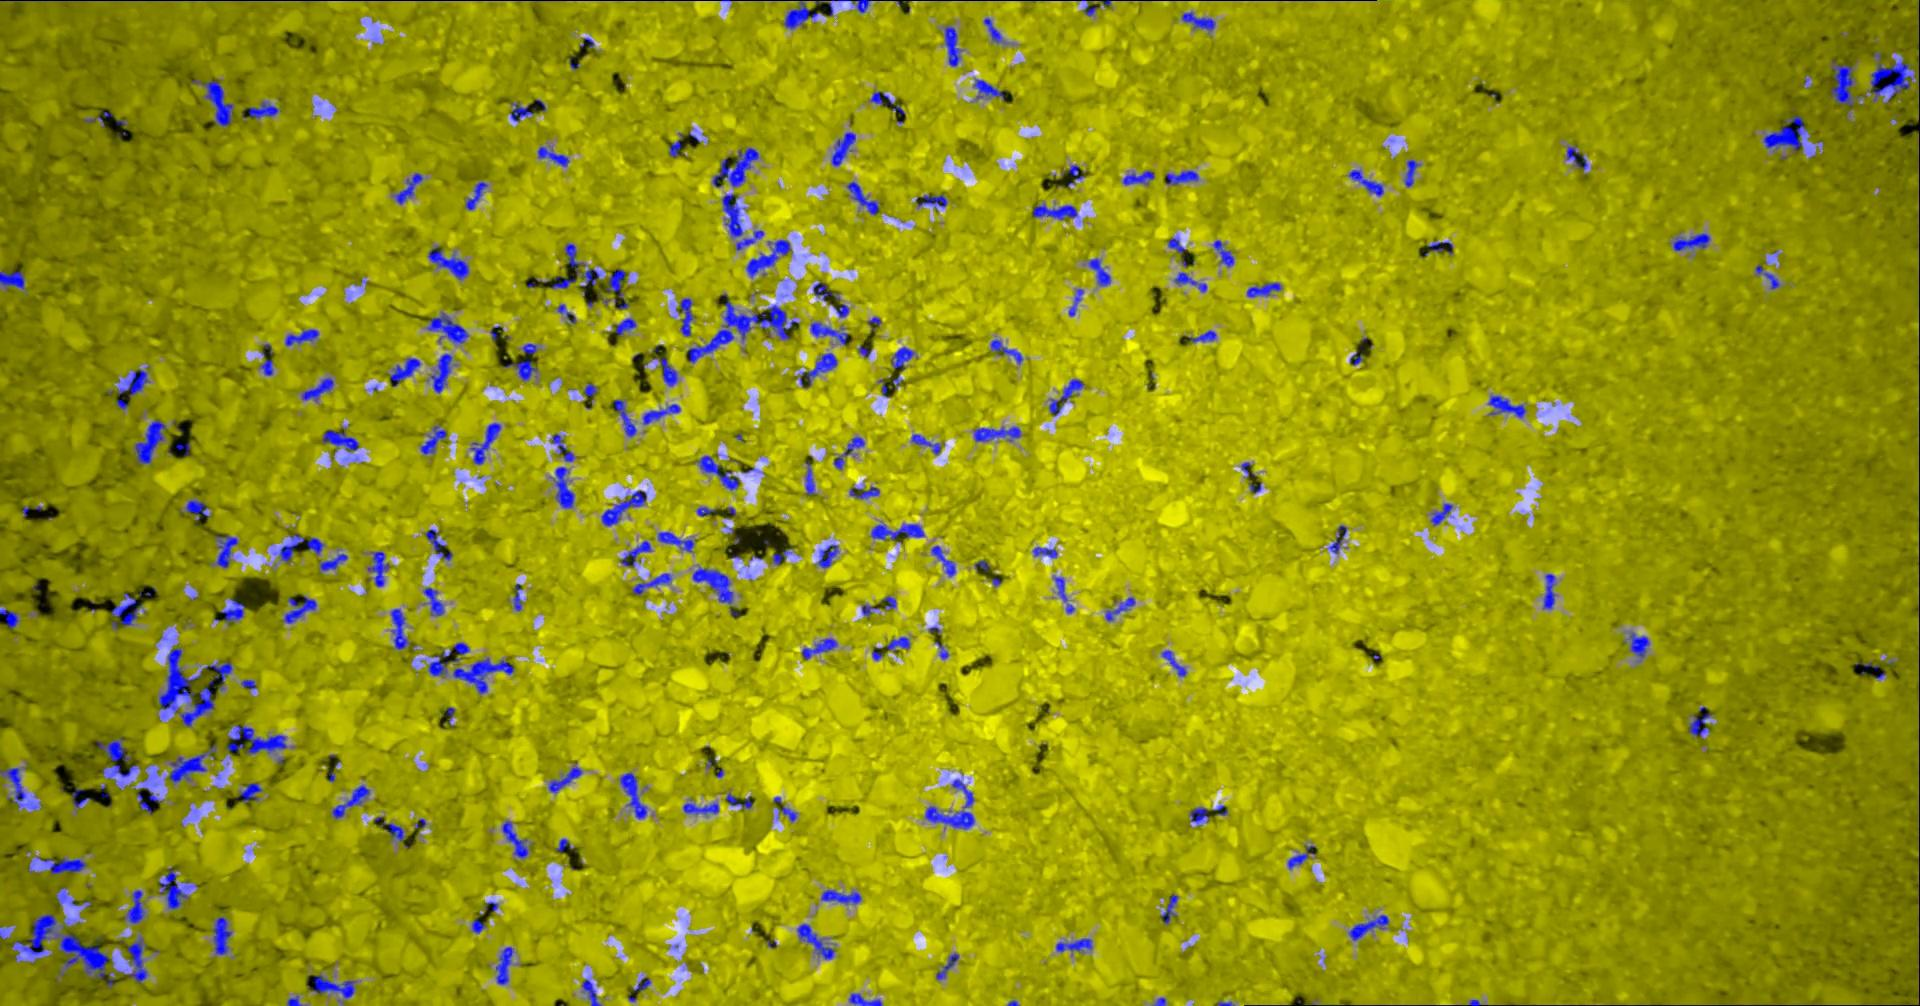ant: (157, 647, 198, 713), (924, 779, 974, 829), (692, 567, 739, 616), (452, 657, 513, 694), (1869, 51, 1914, 100), (190, 79, 232, 126), (168, 744, 215, 784), (712, 147, 758, 187), (565, 243, 599, 295), (226, 724, 286, 753), (95, 737, 138, 776), (745, 239, 790, 277), (601, 490, 646, 525), (1830, 58, 1863, 105), (180, 680, 213, 727), (1763, 116, 1804, 151), (697, 455, 738, 489), (427, 246, 469, 279), (135, 419, 165, 464), (796, 923, 834, 959), (428, 641, 469, 674), (799, 352, 836, 387), (1048, 379, 1083, 415), (331, 784, 370, 818), (427, 312, 469, 343), (470, 422, 500, 464), (618, 772, 646, 818), (116, 370, 147, 409), (157, 868, 187, 909), (279, 533, 323, 561), (110, 592, 141, 627), (307, 974, 354, 997), (123, 937, 147, 982), (783, 0, 822, 28), (846, 180, 877, 213), (833, 436, 863, 469), (0, 767, 25, 807), (1349, 915, 1388, 940), (721, 193, 744, 236), (502, 821, 527, 857), (389, 357, 420, 386), (283, 594, 316, 622), (1349, 169, 1383, 196), (36, 856, 86, 874), (321, 427, 358, 451), (394, 171, 422, 203), (424, 528, 452, 560), (549, 766, 582, 793), (814, 0, 871, 15), (552, 466, 573, 508), (613, 399, 636, 436), (870, 523, 924, 539), (830, 131, 855, 165), (390, 608, 410, 649), (810, 323, 848, 344), (1487, 395, 1525, 417), (632, 573, 670, 594), (620, 540, 650, 567), (990, 339, 1022, 365), (430, 353, 451, 392), (643, 403, 679, 424), (870, 91, 904, 114), (203, 661, 231, 688), (801, 638, 837, 659), (657, 531, 693, 551), (367, 551, 389, 586), (122, 889, 143, 923), (653, 356, 677, 386), (931, 545, 955, 575), (301, 377, 333, 400), (215, 535, 237, 567), (212, 916, 231, 954), (943, 25, 961, 66), (973, 426, 1020, 441), (420, 426, 446, 453), (375, 815, 403, 841), (676, 297, 693, 337), (503, 359, 537, 380), (1105, 597, 1135, 620), (973, 79, 1004, 100), (1032, 203, 1077, 218), (495, 946, 513, 984), (1288, 845, 1316, 869), (465, 180, 488, 210), (1688, 706, 1710, 735), (1672, 232, 1709, 250), (1161, 650, 1186, 676), (136, 788, 161, 813), (1181, 11, 1214, 30), (537, 146, 568, 166), (604, 268, 625, 298), (820, 889, 861, 904), (935, 953, 957, 979), (1175, 272, 1206, 291), (551, 433, 573, 461), (422, 587, 443, 615), (1755, 264, 1779, 288), (221, 598, 244, 624), (1088, 258, 1110, 285), (1167, 238, 1187, 265), (241, 102, 278, 117), (910, 434, 940, 453), (1566, 145, 1587, 170), (284, 329, 317, 345), (737, 230, 763, 250), (1246, 282, 1281, 297), (891, 345, 913, 370), (1213, 240, 1233, 265), (1164, 170, 1197, 185), (1328, 525, 1346, 553), (319, 553, 347, 570), (1542, 573, 1556, 608), (1055, 937, 1091, 951), (817, 544, 838, 567), (185, 499, 210, 520), (1629, 633, 1650, 657), (983, 17, 1002, 42), (236, 782, 262, 801), (1161, 894, 1177, 923), (1430, 503, 1451, 525), (916, 194, 946, 210), (0, 271, 24, 290), (682, 801, 717, 814), (582, 979, 599, 1005), (83, 111, 112, 126), (1123, 170, 1154, 184), (1068, 288, 1083, 316), (510, 102, 532, 121), (725, 793, 752, 808), (848, 993, 881, 1005), (1404, 159, 1418, 185), (556, 304, 575, 323), (71, 788, 90, 807), (615, 318, 635, 335), (804, 461, 814, 495), (886, 636, 909, 652), (813, 282, 830, 301), (1427, 240, 1451, 254), (850, 486, 879, 498), (1053, 575, 1065, 601), (0, 608, 17, 627), (1189, 807, 1208, 823), (551, 276, 575, 288), (1187, 330, 1215, 340), (1032, 546, 1057, 558), (1067, 164, 1083, 180), (772, 547, 789, 564), (778, 805, 796, 821), (1079, 0, 1096, 15), (668, 138, 681, 158), (832, 304, 848, 318), (583, 384, 596, 401), (555, 838, 573, 851), (632, 977, 650, 989), (513, 583, 521, 610), (696, 506, 715, 516), (471, 918, 484, 934), (260, 358, 272, 375), (883, 594, 895, 608), (175, 443, 190, 455), (974, 559, 989, 570), (286, 995, 302, 1005), (522, 343, 536, 354), (240, 680, 255, 688)
